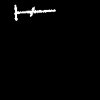double_crochet: (15, 5, 55, 20)
